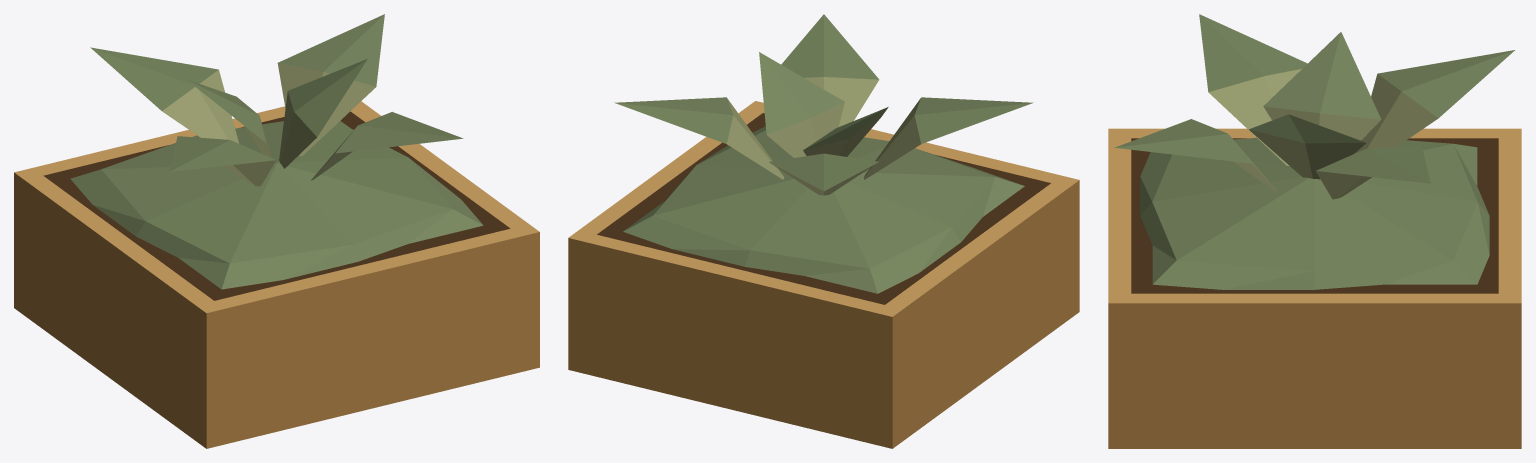
File: item_produce_toxipotato_a.obj
3 views of the same model, side by side, from view 1: azimuth 30°, elevation 25°; view 2: azimuth 150°, elevation 25°; view 3: azimuth 270°, elevation 25° (orthographic). The views are drawn at different scales.
Size of the model in its own units: 0.5724 by 0.4413 by 0.5724.
